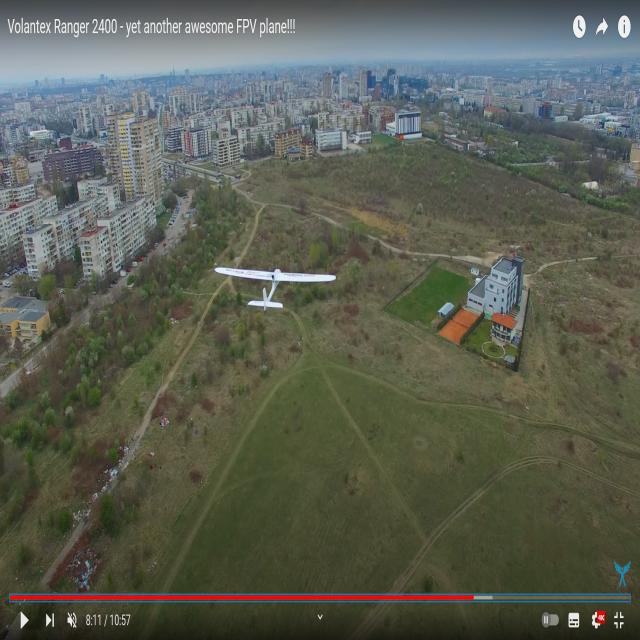iha: (246, 261, 304, 312)
